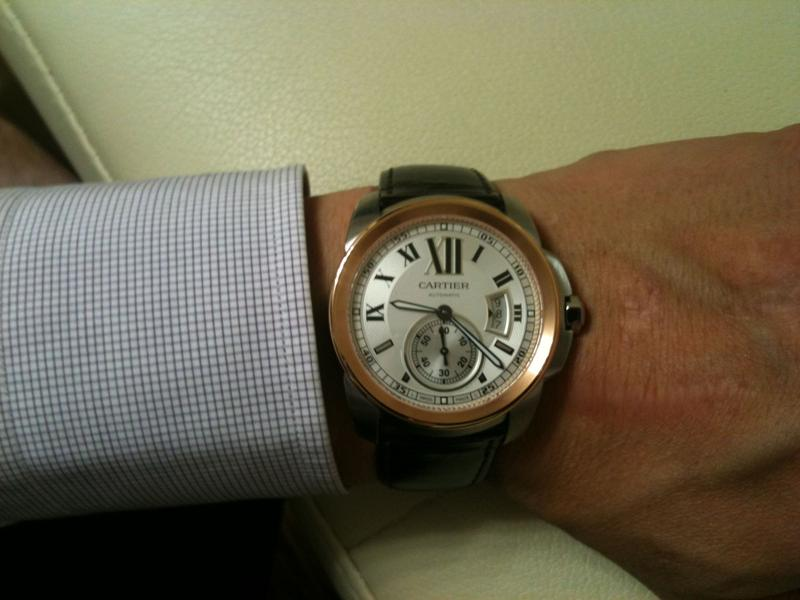watch: (331, 159, 589, 498)
